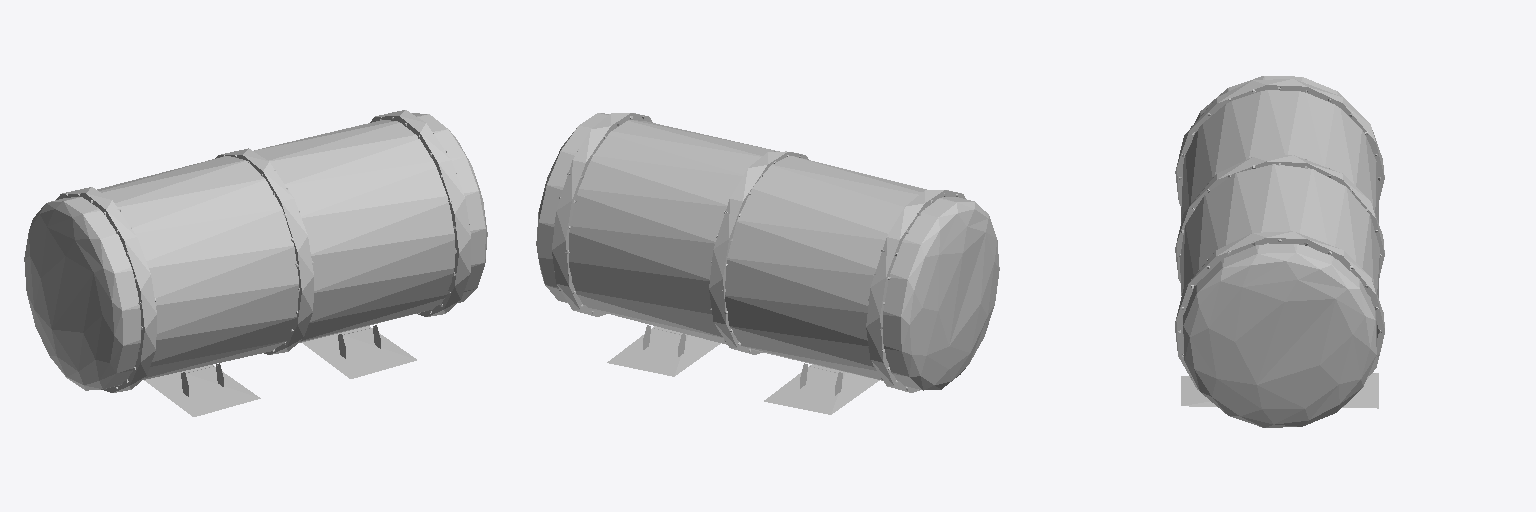
File: uploads_files_993408_tanker_low.obj
The picture shows the model from 3 angles: view 1: azimuth 30°, elevation 25°; view 2: azimuth 150°, elevation 25°; view 3: azimuth 270°, elevation 25°; orthographic projection.
Visible parts, largest first — view 1: tanker_mainBodyBackward, tanker_mainBodyForward, Tube_upper, Tube_bottom, Tube_middle, forward_plane, bottom_plane; view 2: tanker_mainBodyBackward, tanker_mainBodyForward, Tube_upper, Tube_bottom, Tube_middle, bottom_plane, forward_plane; view 3: tanker_mainBodyForward, tanker_mainBodyBackward, Tube_upper, Tube_bottom, Tube_middle, forward_plane.
Part boxes in pixels (left/top/right/bottom): tanker_mainBodyBackward: left=24, top=156, right=298, bottom=390; tanker_mainBodyForward: left=254, top=113, right=487, bottom=342; Tube_upper: left=370, top=110, right=470, bottom=316; Tube_bottom: left=56, top=187, right=156, bottom=392; Tube_middle: left=215, top=148, right=313, bottom=354; forward_plane: left=302, top=326, right=416, bottom=378; bottom_plane: left=144, top=365, right=260, bottom=416; tanker_mainBodyBackward: left=725, top=156, right=999, bottom=390; tanker_mainBodyForward: left=536, top=113, right=779, bottom=344; Tube_upper: left=552, top=113, right=652, bottom=316; Tube_bottom: left=866, top=190, right=965, bottom=392; Tube_middle: left=709, top=152, right=808, bottom=354; bottom_plane: left=764, top=364, right=879, bottom=414; forward_plane: left=607, top=326, right=720, bottom=376; tanker_mainBodyForward: left=1180, top=164, right=1379, bottom=427; tanker_mainBodyBackward: left=1181, top=76, right=1378, bottom=222; Tube_upper: left=1175, top=231, right=1384, bottom=406; Tube_bottom: left=1175, top=79, right=1384, bottom=206; Tube_middle: left=1175, top=155, right=1384, bottom=282; forward_plane: left=1181, top=373, right=1378, bottom=408.
Size of the model in its own units: 221 by 107 by 105.